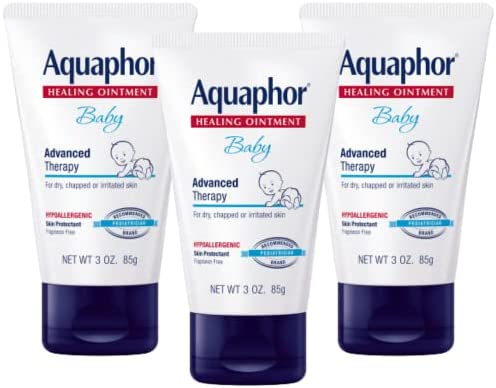Medicine: (141, 24, 339, 388), (292, 6, 486, 361), (3, 3, 183, 371)
